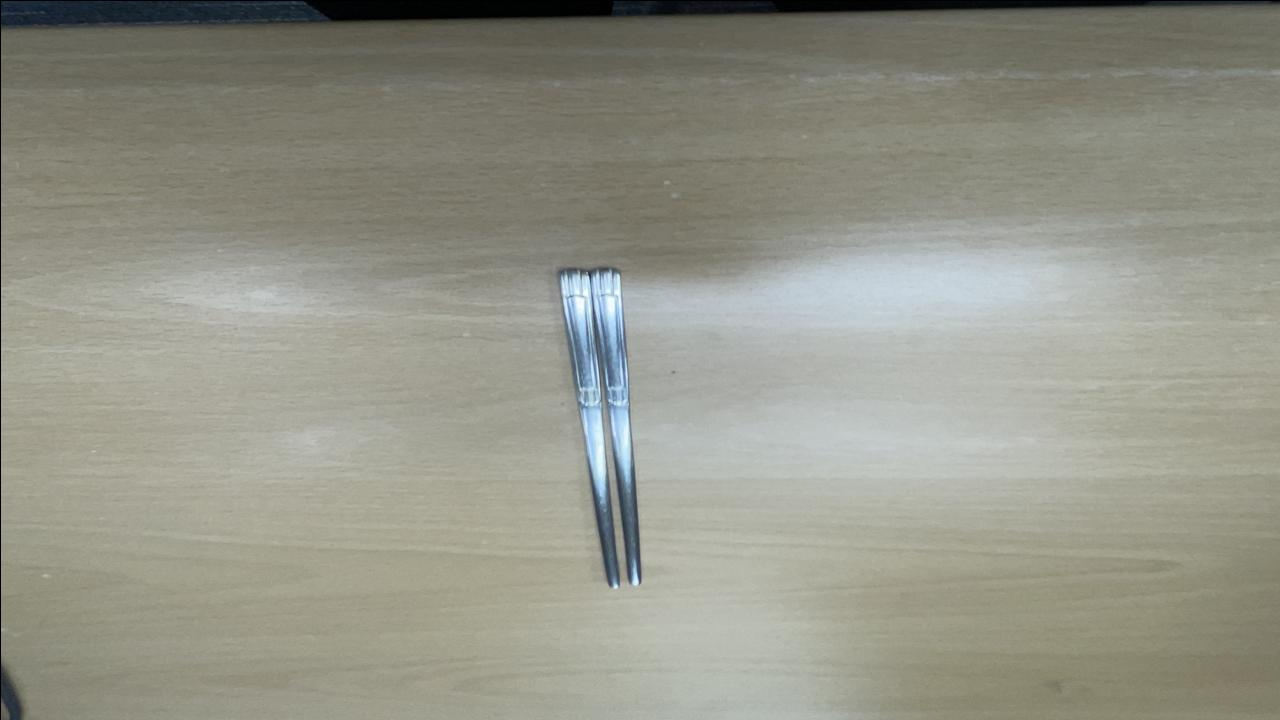chopstick: (558, 268, 640, 590)
